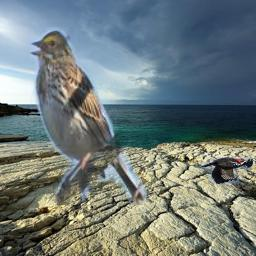Sparrow: (30, 27, 147, 205)
Woodpecker: (199, 157, 253, 184)
